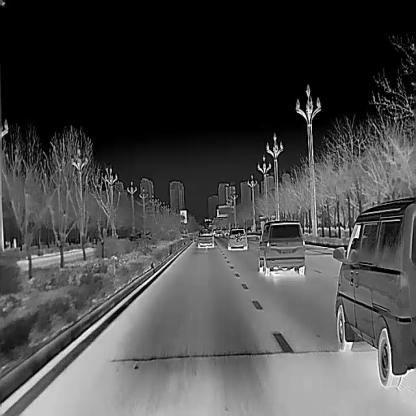car: (332, 195, 416, 387), (258, 219, 306, 274), (226, 228, 247, 248), (197, 230, 214, 246)
